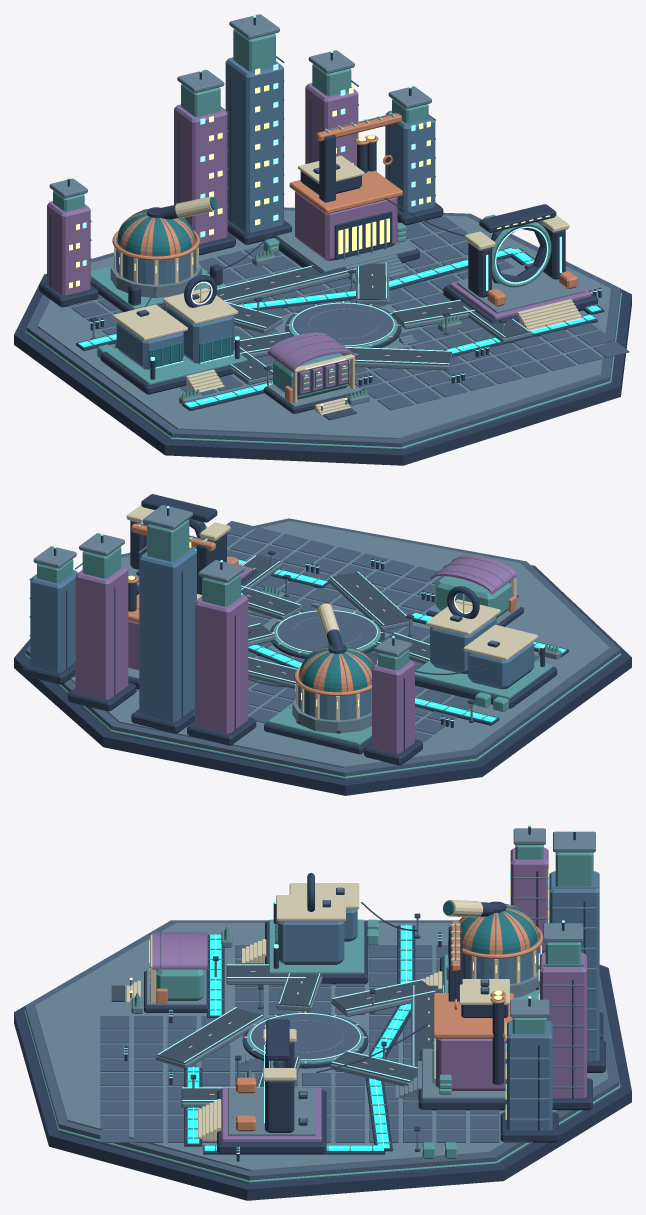
File: district-world.glb
3 renders of one model, top to bottom at view 1: azimuth 30°, elevation 25°; view 2: azimuth 150°, elevation 25°; view 3: azimuth 270°, elevation 25°, orthographic. The views are drawn at different scales.
Visible parts, largest first — view 1: TerrainTerraces__Blue_slate_terraces, TerrainTerraces__Blue_steel_bevels, RearCitySpires__Petrol_blue_enamel, RearCitySpires__Violet_enamel, TerrainTerraces__Ink_structural_alloy, ElevatedRoads__Road_graphite, PreviewGateway__Ink_structural_alloy, RearCitySpires__Patinated_teal_ceramic, ConstructionForge__Ink_structural_alloy, VerificationLab__Warm_ceramic_trim, RearCitySpires__Blue_steel_bevels, RearCitySpires__Ink_structural_alloy (+36 smaller); view 2: TerrainTerraces__Blue_slate_terraces, TerrainTerraces__Blue_steel_bevels, RearCitySpires__Violet_enamel, RearCitySpires__Petrol_blue_enamel, TerrainTerraces__Ink_structural_alloy, RearCitySpires__Ink_structural_alloy, ElevatedRoads__Road_graphite, RearCitySpires__Patinated_teal_ceramic, VerificationLab__Petrol_blue_enamel, RearCitySpires__Blue_steel_bevels, VerificationLab__Warm_ceramic_trim, CentralPlaza__Blue_slate_terraces (+24 smaller); view 3: TerrainTerraces__Blue_slate_terraces, TerrainTerraces__Blue_steel_bevels, TerrainTerraces__Ink_structural_alloy, ElevatedRoads__Road_graphite, RearCitySpires__Petrol_blue_enamel, RearCitySpires__Violet_enamel, RearCitySpires__Blue_steel_bevels, PreviewGateway__Ink_structural_alloy, EnergyChannels__Cyan_energy_water, ConstructionForge__Ink_structural_alloy, VerificationLab__Petrol_blue_enamel, RearCitySpires__Patinated_teal_ceramic (+32 smaller).
Boxes of the visible parts, box(x1,y1,x2,y2) form: TerrainTerraces__Blue_slate_terraces: box(26, 207, 629, 450); TerrainTerraces__Blue_steel_bevels: box(37, 210, 611, 439); RearCitySpires__Petrol_blue_enamel: box(225, 57, 435, 232); RearCitySpires__Violet_enamel: box(47, 83, 358, 295); TerrainTerraces__Ink_structural_alloy: box(14, 273, 631, 465); ElevatedRoads__Road_graphite: box(216, 263, 529, 380); PreviewGateway__Ink_structural_alloy: box(443, 204, 597, 323); RearCitySpires__Patinated_teal_ceramic: box(53, 29, 428, 211); ConstructionForge__Ink_structural_alloy: box(275, 125, 419, 273); VerificationLab__Warm_ceramic_trim: box(112, 283, 238, 392); RearCitySpires__Blue_steel_bevels: box(49, 14, 435, 278); RearCitySpires__Ink_structural_alloy: box(39, 17, 443, 307); TerrainTerraces__Blue_slate_terraces: box(26, 518, 620, 780); TerrainTerraces__Blue_steel_bevels: box(70, 521, 609, 767); RearCitySpires__Violet_enamel: box(75, 565, 414, 753); RearCitySpires__Petrol_blue_enamel: box(30, 547, 196, 721); TerrainTerraces__Ink_structural_alloy: box(14, 565, 631, 795); RearCitySpires__Ink_structural_alloy: box(22, 508, 422, 765); ElevatedRoads__Road_graphite: box(241, 556, 429, 683); RearCitySpires__Patinated_teal_ceramic: box(37, 519, 409, 670); VerificationLab__Petrol_blue_enamel: box(430, 616, 534, 689); RearCitySpires__Blue_steel_bevels: box(29, 505, 412, 736); VerificationLab__Warm_ceramic_trim: box(426, 593, 538, 660); CentralPlaza__Blue_slate_terraces: box(277, 611, 376, 652); TerrainTerraces__Blue_slate_terraces: box(25, 920, 619, 1184); TerrainTerraces__Blue_steel_bevels: box(35, 923, 608, 1171); TerrainTerraces__Ink_structural_alloy: box(14, 964, 631, 1200); ElevatedRoads__Road_graphite: box(157, 965, 443, 1102); RearCitySpires__Petrol_blue_enamel: box(506, 871, 599, 1130); RearCitySpires__Violet_enamel: box(510, 847, 586, 1098); RearCitySpires__Blue_steel_bevels: box(509, 828, 596, 1120); PreviewGateway__Ink_structural_alloy: box(217, 1019, 326, 1154); EnergyChannels__Cyan_energy_water: box(187, 925, 412, 1150); ConstructionForge__Ink_structural_alloy: box(418, 926, 508, 1110); VerificationLab__Petrol_blue_enamel: box(278, 909, 357, 964); RearCitySpires__Patinated_teal_ceramic: box(512, 845, 593, 1033).
Bounding box in the file's own units: 56.16 × 24.77 × 55.12.
